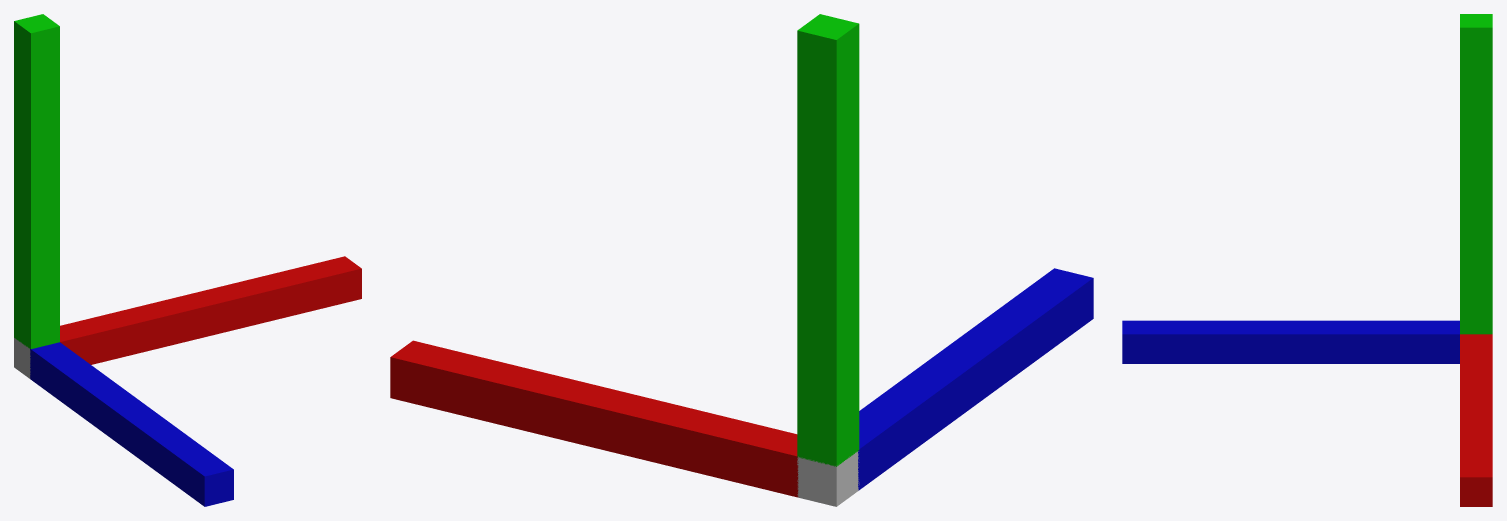
The model's file is axis.obj.
3 renders of one model, left to right at view 1: azimuth 30°, elevation 25°; view 2: azimuth 150°, elevation 25°; view 3: azimuth 270°, elevation 25°, orthographic. The views are drawn at different scales.
Visible parts, largest first — view 1: Cube.002, Cube.001, Cube, 立方体; view 2: Cube.002, Cube.001, Cube, 立方体; view 3: Cube, Cube.002, Cube.001.
Boxes of the visible parts, <box> form: Cube.002: <box>14,14,59,348</box>; Cube.001: <box>60,256,361,364</box>; Cube: <box>30,342,233,506</box>; 立方体: <box>14,338,30,378</box>; Cube.002: <box>797,14,859,466</box>; Cube.001: <box>390,340,798,497</box>; Cube: <box>858,268,1093,490</box>; 立方体: <box>797,451,859,506</box>; Cube: <box>1122,320,1459,363</box>; Cube.002: <box>1460,14,1492,334</box>; Cube.001: <box>1460,334,1492,506</box>.
Size of the model in its own units: 22.76 by 22.76 by 22.71.
